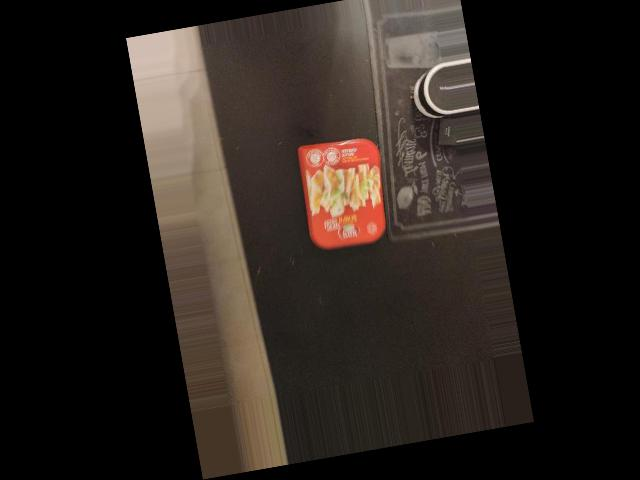cheese: (295, 128, 394, 254)
